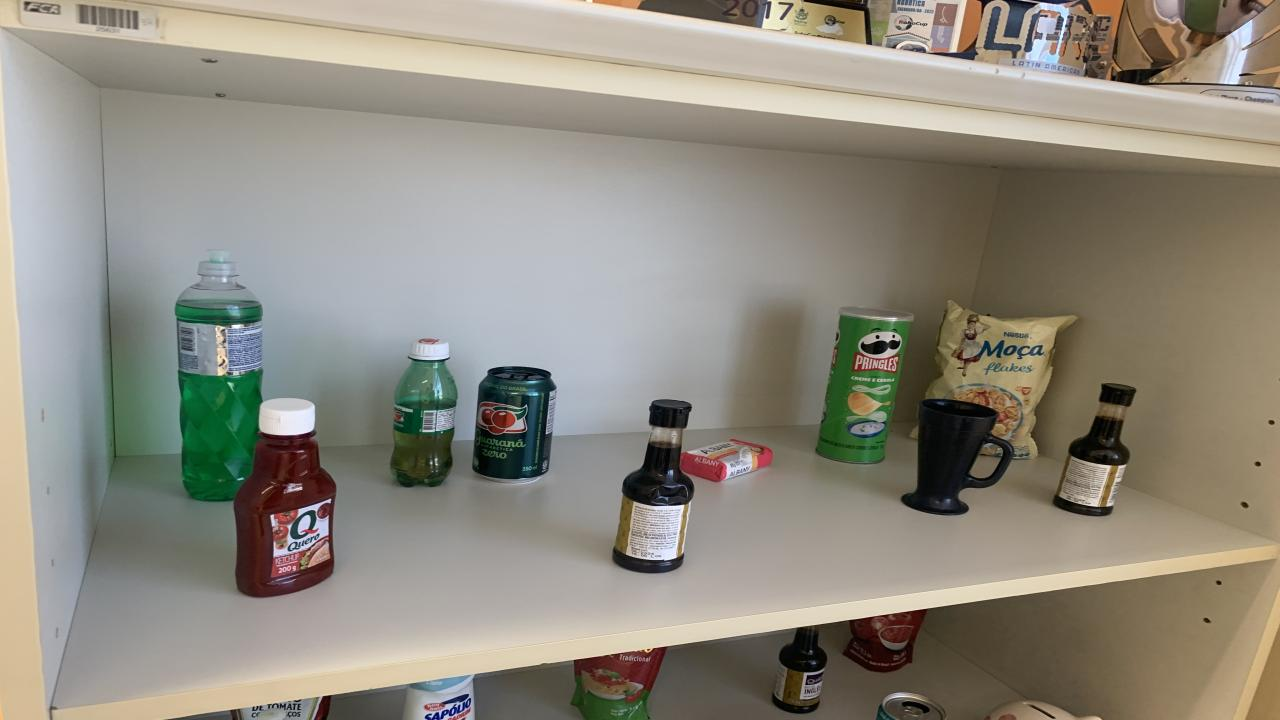Cleaner-Cleanup_Items: (402, 675, 475, 720)
Detergent-Cleanup_Items: (175, 251, 262, 501)
English_Sauce-Pantry_Items: (612, 399, 695, 572), (1052, 382, 1135, 516), (772, 626, 828, 712)
Flakes-Snacks: (925, 302, 1078, 458)
Guarana-Drinks: (390, 338, 458, 488)
Guarana_Can-Drinks: (472, 368, 555, 482)
Ketchup-Pantry_Items: (235, 398, 335, 596)
Pig_Safe-Miscellaneous: (985, 699, 1100, 720)
Pringles-Snacks: (815, 308, 912, 463)
Soap-Cleanup_Items: (680, 439, 772, 482)
Tea-Drinks: (875, 692, 945, 720)
Tomato_Sauce-Pantry_Items: (570, 647, 665, 720), (842, 609, 925, 673), (232, 696, 330, 720)
